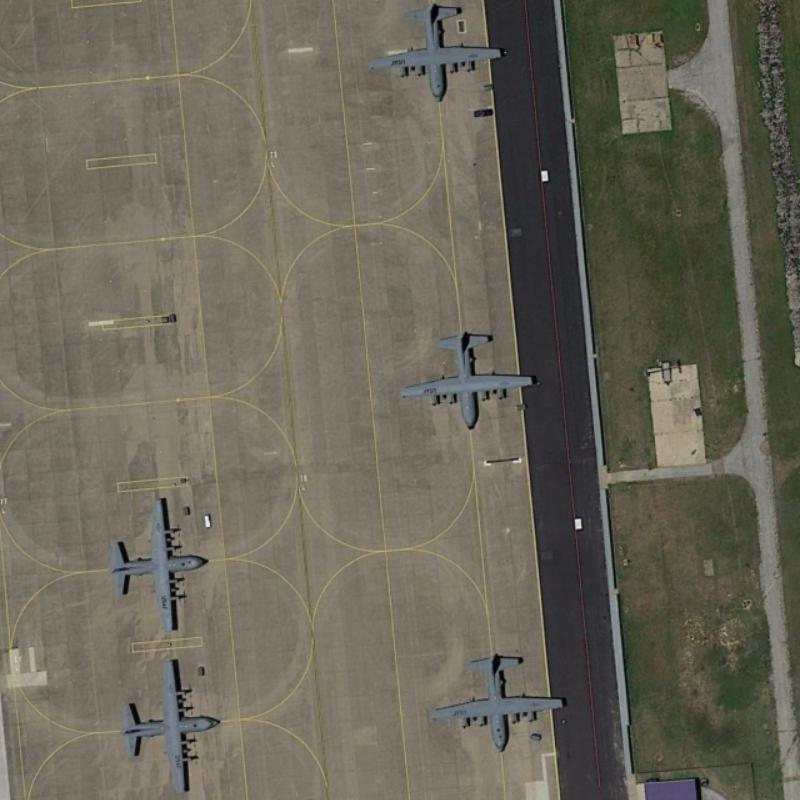A2: (420, 643, 578, 758), (102, 487, 211, 640), (392, 329, 540, 433), (115, 650, 221, 794), (364, 4, 504, 108)
